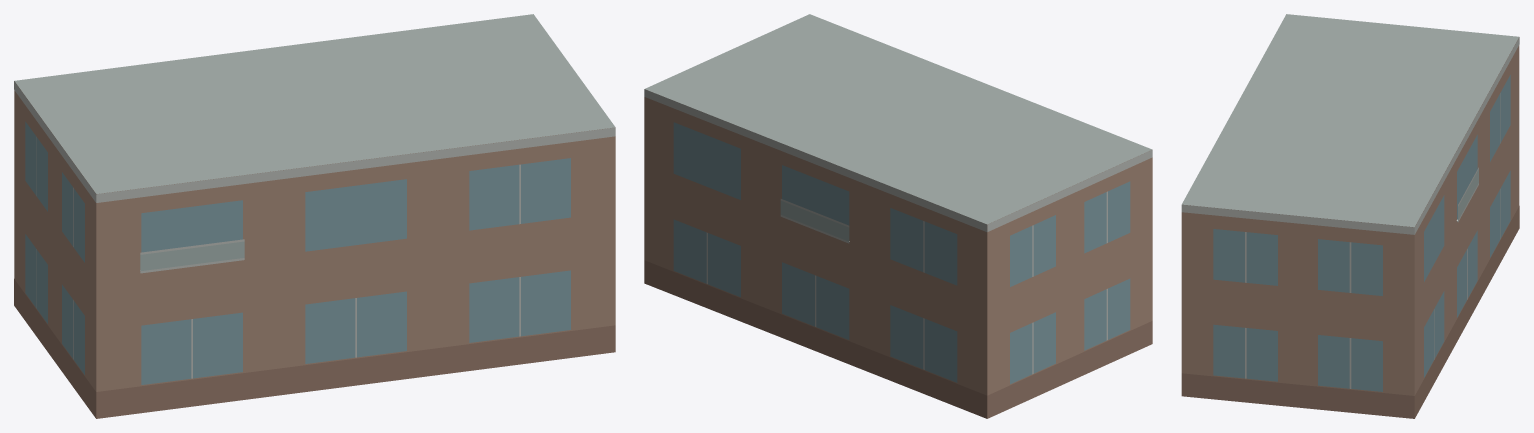
File: survey-upis-32562520.glb
3 views of the same model, side by side, from view 1: azimuth 30°, elevation 25°; view 2: azimuth 150°, elevation 25°; view 3: azimuth 270°, elevation 25° (orthographic). The views are drawn at different scales.
Visible parts, largest first — view 1: survey-upis-32562520.tmp; view 2: survey-upis-32562520.tmp; view 3: survey-upis-32562520.tmp.
Part boxes in pixels (<box>): survey-upis-32562520.tmp: <box>14,14,615,418</box>; survey-upis-32562520.tmp: <box>644,14,1152,418</box>; survey-upis-32562520.tmp: <box>1181,14,1519,418</box>.
Bounding box in the file's own units: 14.57 × 6.1 × 9.76.
